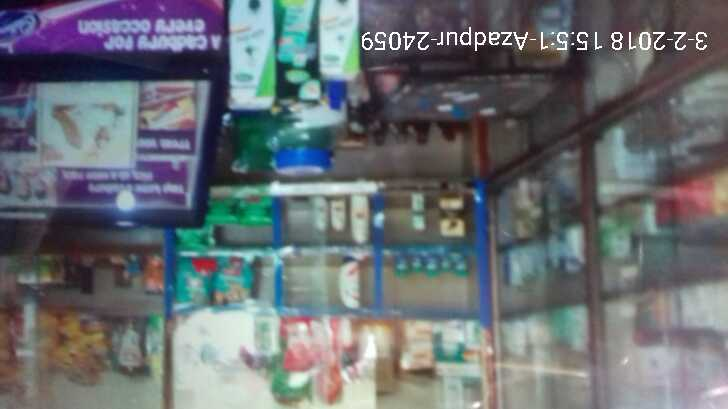vicks: (389, 254, 471, 284)
